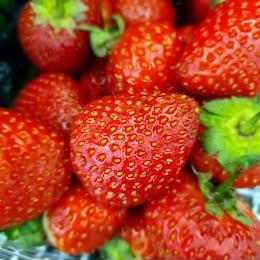Fresa: (66, 87, 203, 209)
